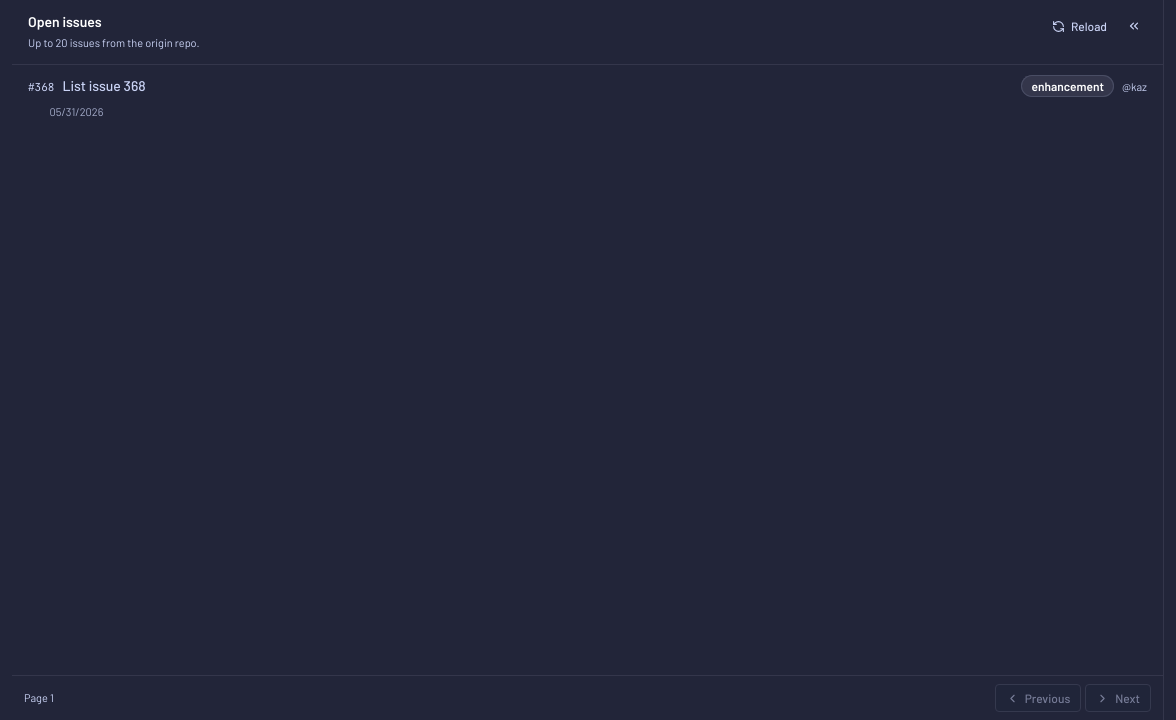
IssueTab › loads open issue list and shows workflow selector after selection
Expected: the text "List issue 368" is shown, [62, 77, 146, 94]
What coordinates should you click on to do the following:
click the button named "List issue 368"
I would click on:
 (588, 99)
Its box is [12, 65, 1163, 133].
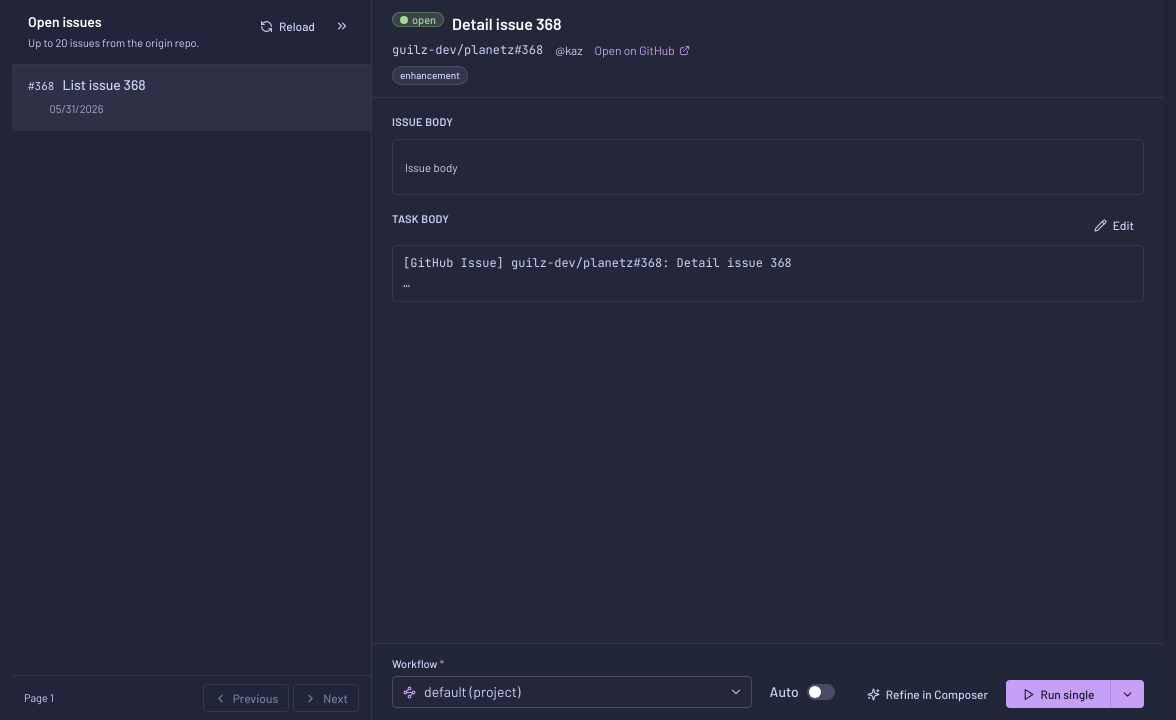
Expected: the heading "Detail issue 368" is shown, [452, 14, 562, 33]
Expected: the heading "Task body" is shown, [392, 211, 449, 228]
Expected: the button "Run single" is shown, [1006, 680, 1110, 708]
